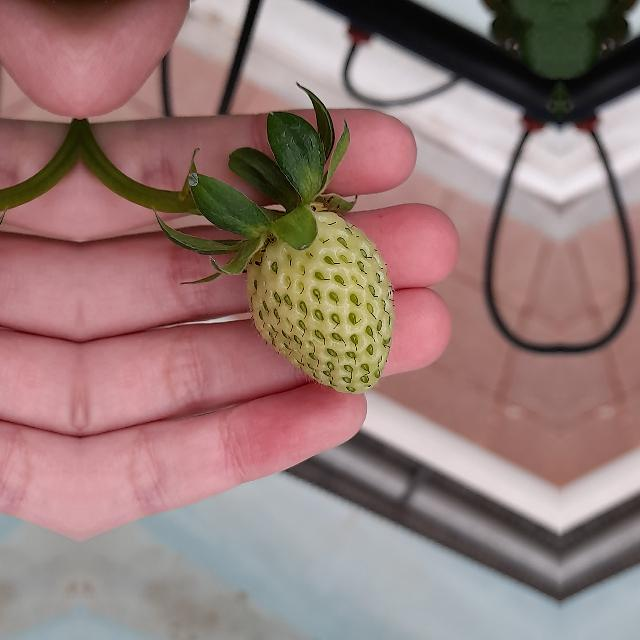Health_25: (246, 210, 394, 394)
